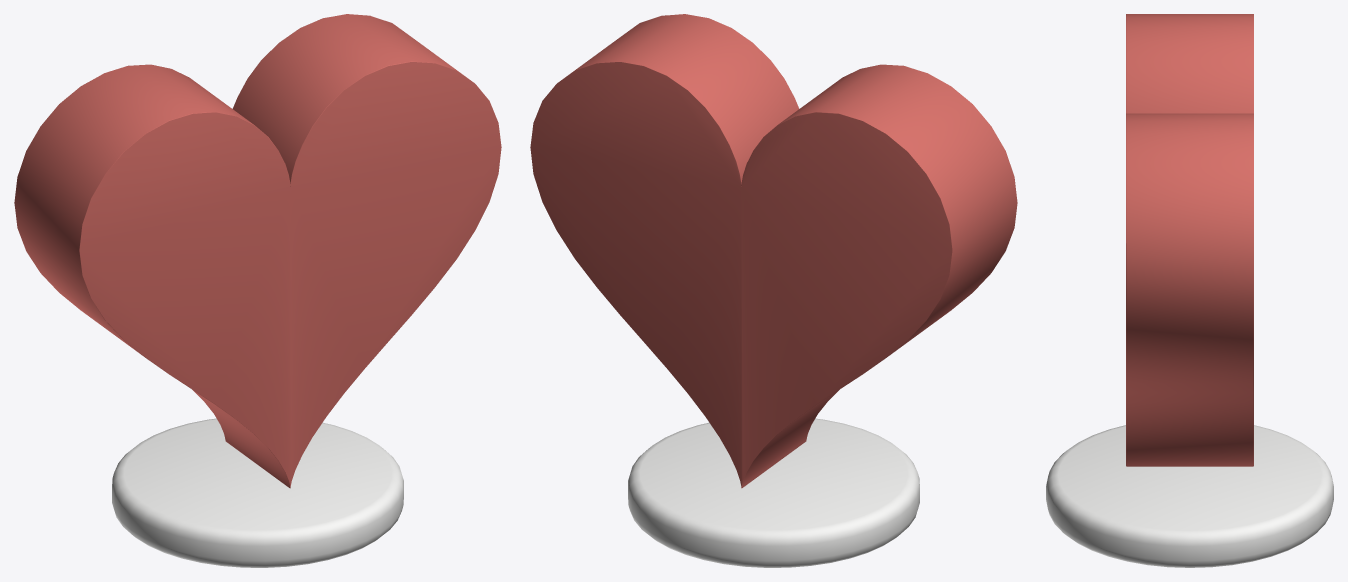
The model's file is profile--likes.glb.
3 renders of one model, left to right at view 1: azimuth 30°, elevation 25°; view 2: azimuth 150°, elevation 25°; view 3: azimuth 270°, elevation 25°, orthographic.
Parts seen in each view (by area): view 1: profile--likes; view 2: profile--likes; view 3: profile--likes.
Boxes of the visible parts, x1,y1,x2,y2 form: profile--likes: [14, 14, 501, 567]; profile--likes: [530, 14, 1017, 567]; profile--likes: [1046, 14, 1333, 567].
Bounding box in the file's own units: 0.6001 × 0.6035 × 0.3604.
